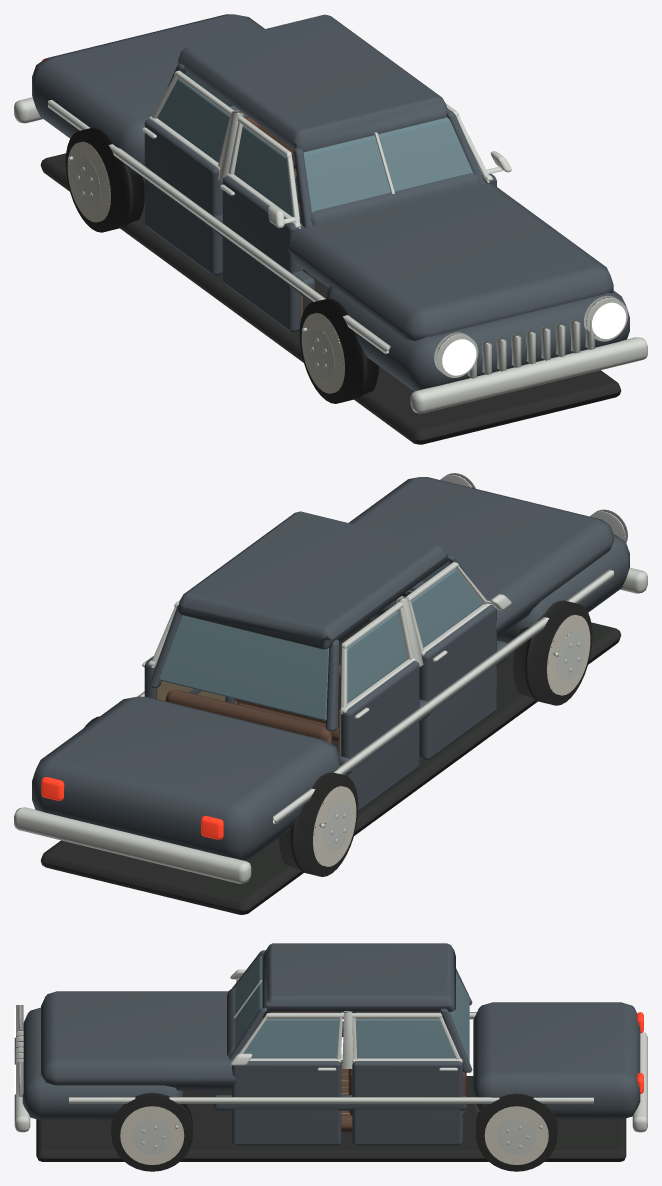
The model's file is packard.glb.
3 views of the same model, one above another, from view 1: azimuth 30°, elevation 25°; view 2: azimuth 150°, elevation 25°; view 3: azimuth 270°, elevation 25° (orthographic). The views are drawn at different scales.
Visible parts, largest first — view 1: front body, windscreen divider, floor pan, split windscreen, door skin.001, door skin, wheel.001, door window.001, wheel, door window, headlight, door window surround (+5 smaller); view 2: front body, floor pan, windscreen divider, split windscreen, door skin, door skin.001, wheel, door window.001, bench cushion, wheel.001, door window, door window surround.002 (+6 smaller); view 3: front body, floor pan, door skin.003, door skin.002, windscreen divider, door window.003, door window.002, split windscreen, wheel.002, wheel.003, whitewall.003, whitewall.002 (+5 smaller).
Part boxes in pixels (x1,y1,x2,y2): front body: (32, 14, 629, 390); windscreen divider: (14, 97, 647, 413); floor pan: (40, 153, 621, 444); split windscreen: (185, 71, 472, 212); door skin.001: (144, 119, 222, 275); door skin: (222, 176, 300, 332); wheel.001: (65, 128, 144, 232); door window.001: (157, 78, 230, 162); wheel: (299, 298, 378, 403); door window: (234, 125, 299, 219); headlight: (442, 302, 626, 375); door window surround: (220, 116, 300, 228); front body: (32, 477, 629, 860); floor pan: (40, 592, 621, 914); windscreen divider: (14, 473, 647, 883); split windscreen: (158, 562, 449, 720); door skin: (419, 605, 496, 760); door skin.001: (341, 661, 419, 811); wheel: (513, 600, 592, 705); door window.001: (340, 611, 407, 704); bench cushion: (165, 664, 341, 743); wheel.001: (279, 772, 358, 876); door window: (411, 568, 483, 647); door window surround.002: (340, 602, 415, 718); front body: (22, 943, 640, 1120); floor pan: (36, 1012, 626, 1161); door skin.003: (352, 1061, 462, 1145); door skin.002: (232, 1061, 341, 1145); windscreen divider: (14, 969, 647, 1132); door window.003: (355, 1018, 455, 1058); door window.002: (243, 1018, 339, 1058); split windscreen: (235, 955, 469, 1061); wheel.002: (111, 1092, 192, 1171); wheel.003: (476, 1093, 557, 1171); whitewall.003: (484, 1106, 548, 1164); whitewall.002: (120, 1106, 184, 1164).
Size of the model in its own units: 2.08 by 1.57 by 5.75.
